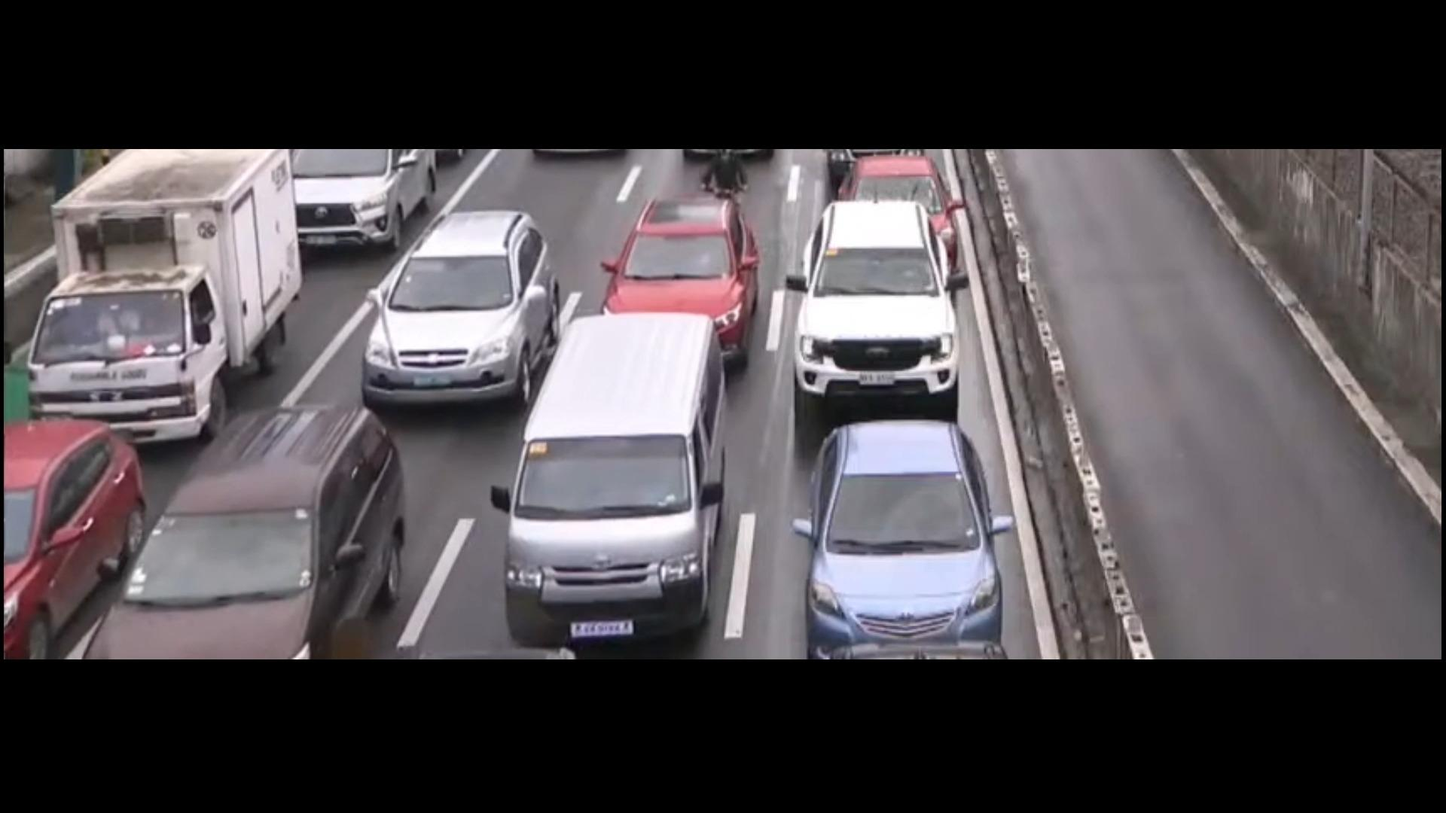SUV: (81, 394, 432, 657), (324, 179, 578, 412), (782, 187, 991, 414), (607, 192, 759, 353)
Sedan: (763, 413, 1047, 654), (0, 397, 157, 659)
Truck: (16, 153, 305, 435)
Van: (462, 300, 742, 647)
